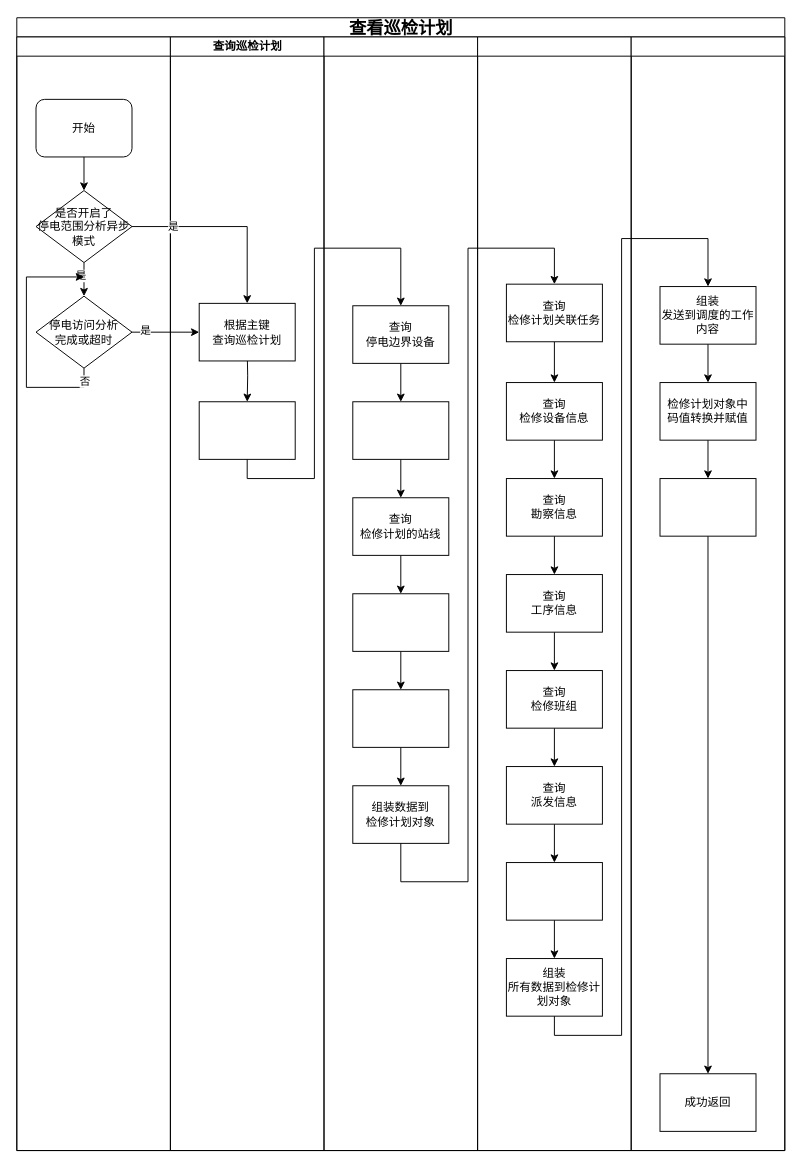
The diagram is 802 pixels wide and 1167 high, and some of its shapes have lost their labels. Each missing label, with the box of its shape:
完善巡检计划返回数据: (630, 36, 785, 1151)
接收请求: (16, 36, 170, 1151)
查询 停电申请单: (352, 689, 449, 747)
查询 创建人组织信息: (505, 862, 602, 920)
查询 检修计划停电范围: (352, 401, 449, 459)
查询 检修计划变更数据: (352, 593, 449, 651)
查询停电范围数据: (323, 36, 478, 1151)
查询扩展属性 并组装到检修计划: (659, 478, 756, 536)
查询检修计划任务: (477, 36, 631, 1151)
通过 巡检计划对象 组织扩展对象: (198, 401, 295, 459)
